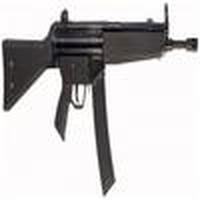gun: (3, 18, 200, 139)
